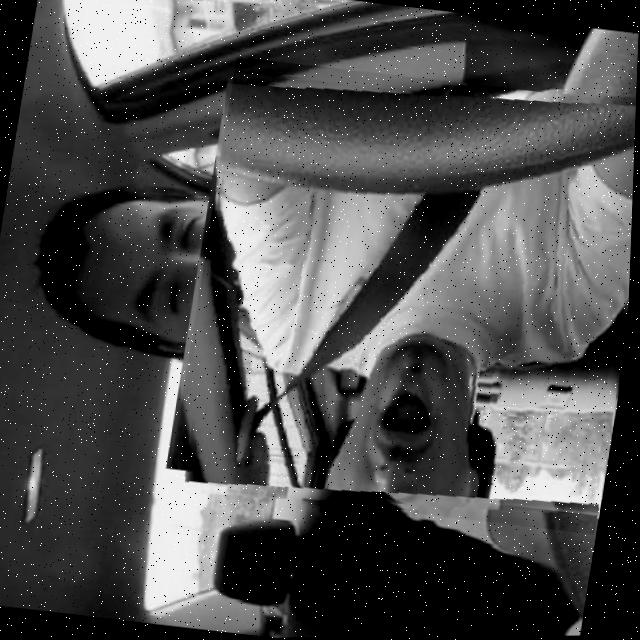seatbelt: (170, 53, 638, 536)
